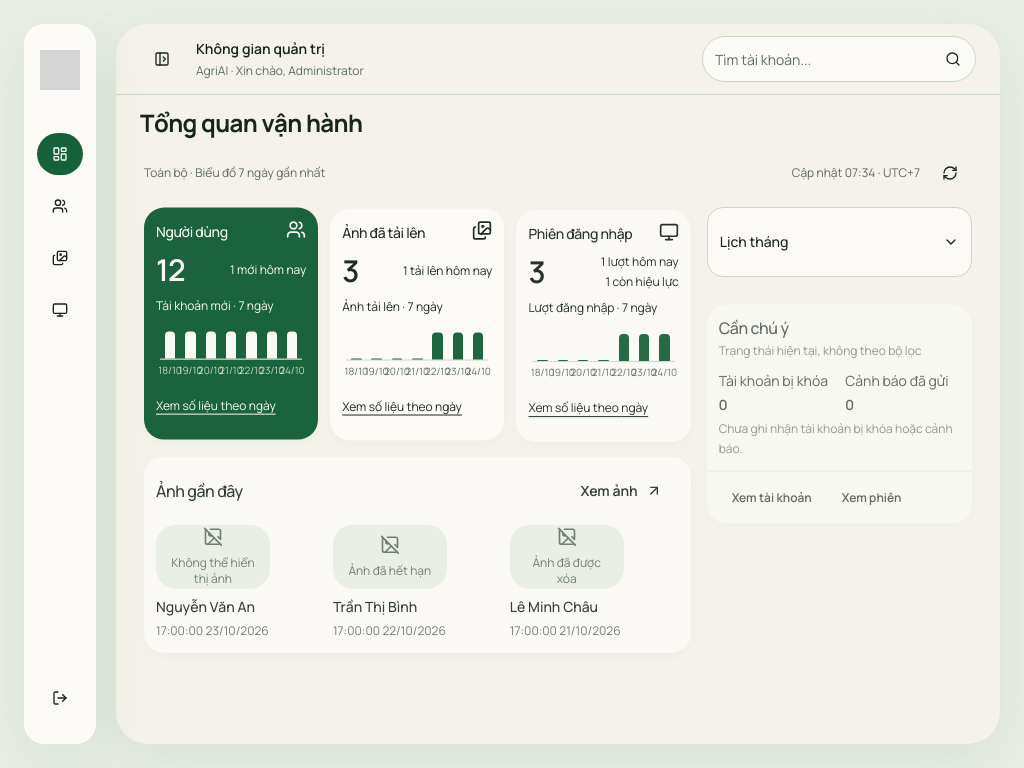
Test: Admin mock workspace with real authentication › keeps the admin session when server revocation fails
Expected: the heading "Tổng quan vận hành" is shown, [140, 106, 362, 139]
Click the button named "Đăng xuất".
click(60, 698)  # box [36, 676, 84, 720]
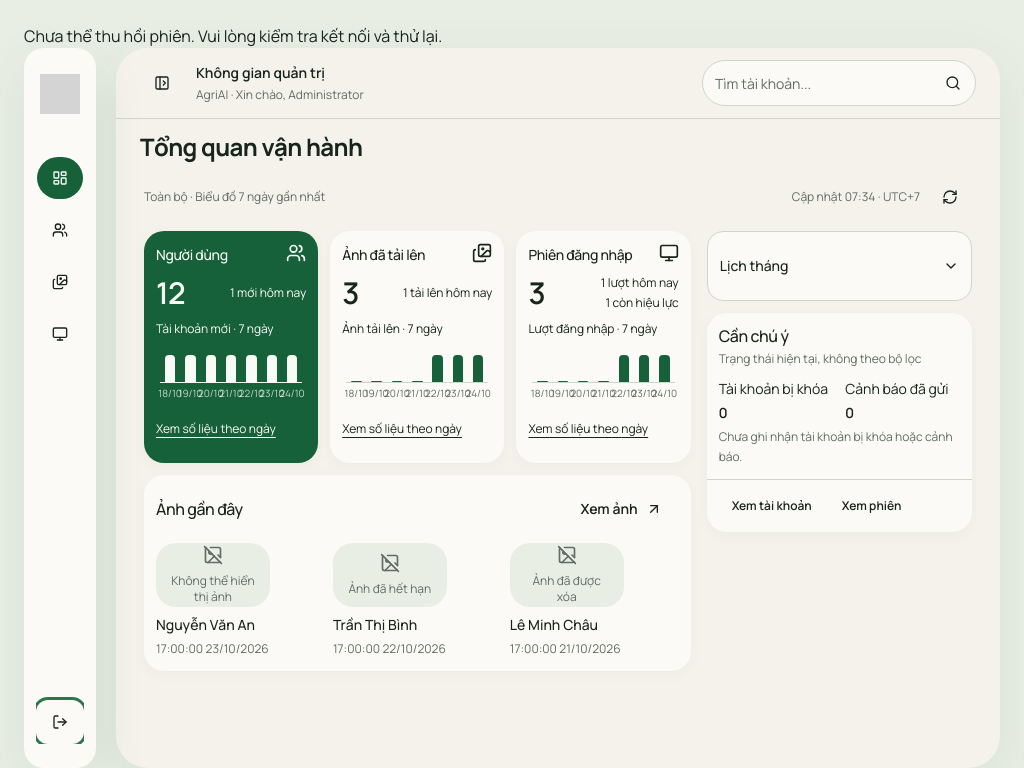
Expected: the heading "Tổng quan vận hành" is shown, [140, 130, 362, 163]
Result: the message "Chưa thể thu hồi phiên. Vui lòng kiểm tra kết nối và thử lại." is shown at [24, 25, 442, 47]
